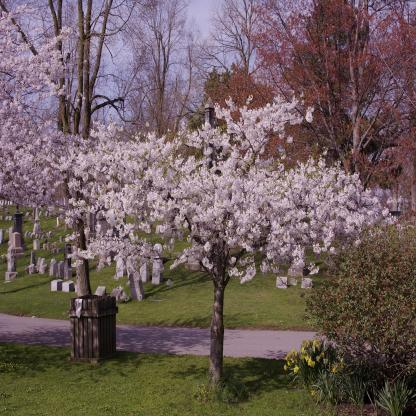Someiyoshino: (50, 87, 410, 290), (1, 1, 110, 239)
